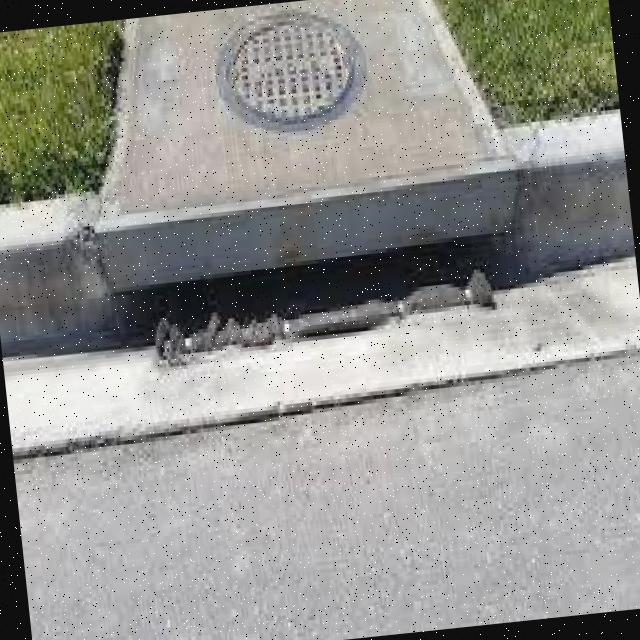curb: (1, 134, 639, 356)
